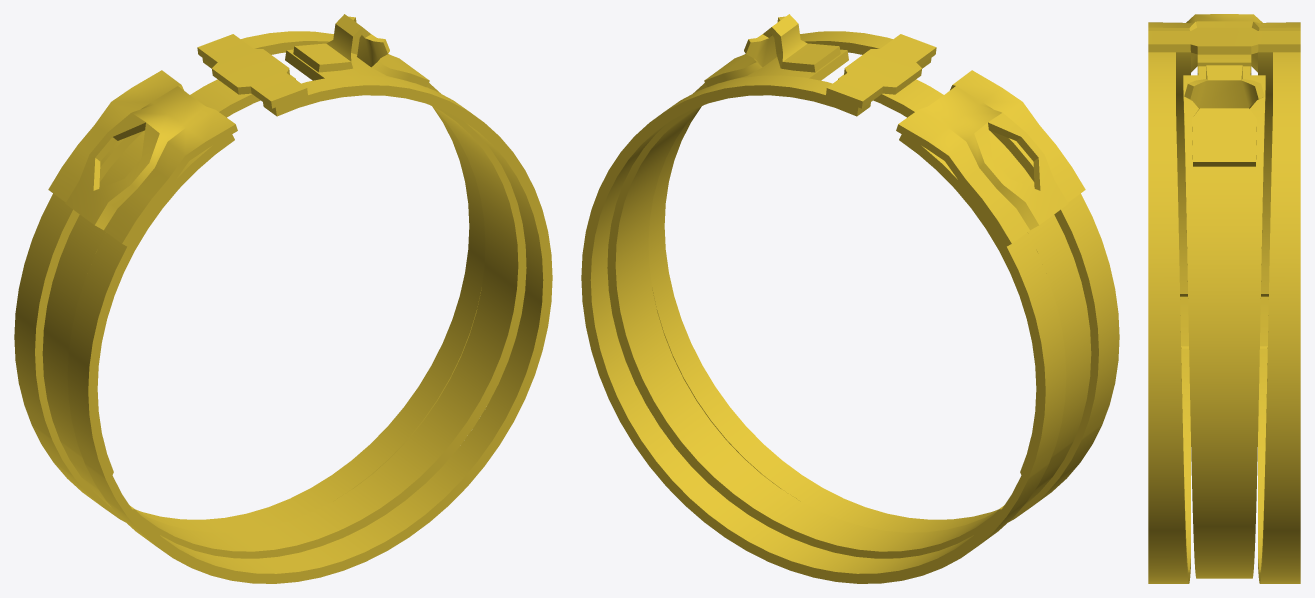
3 renders of one model, left to right at view 1: azimuth 30°, elevation 25°; view 2: azimuth 150°, elevation 25°; view 3: azimuth 270°, elevation 25°, orthographic. The views are drawn at different scales.
Parts seen in each view (by area): view 1: 688; view 2: 688; view 3: 688.
Boxes of the visible parts, x1,y1,x2,y2 form: 688: (14,14,552,583); 688: (581,14,1119,583); 688: (1148,14,1300,583).
Bounding box in the file's own units: 1478 × 1560 × 407.
